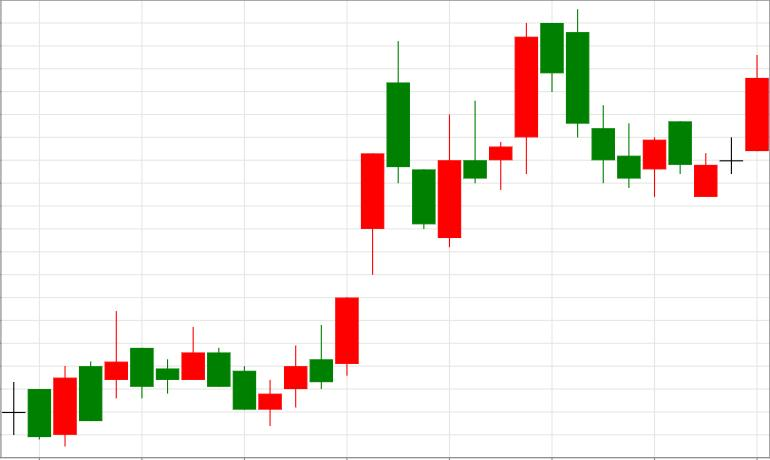inverse_hammer_rise: (540, 8, 641, 188)
